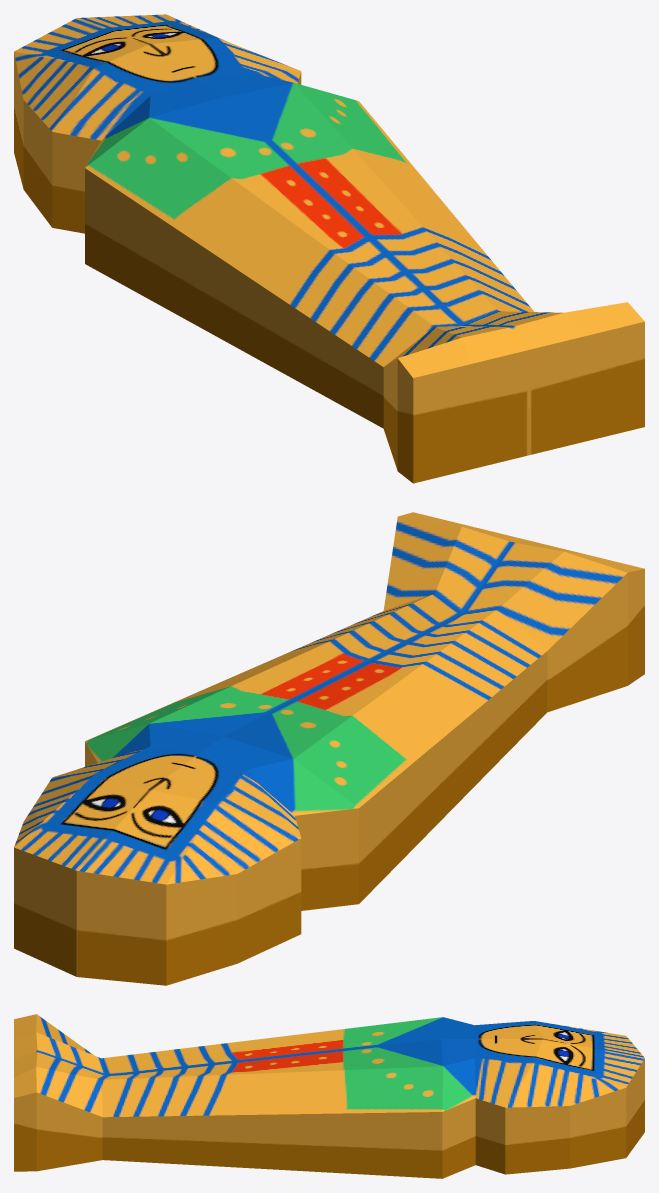
The model's file is caixao.obj.
The picture shows the model from 3 angles, top to bottom: view 1: azimuth 30°, elevation 25°; view 2: azimuth 150°, elevation 25°; view 3: azimuth 270°, elevation 25°; orthographic projection. The views are drawn at different scales.
Size of the model in its own units: 1.56 by 0.7251 by 4.45.
